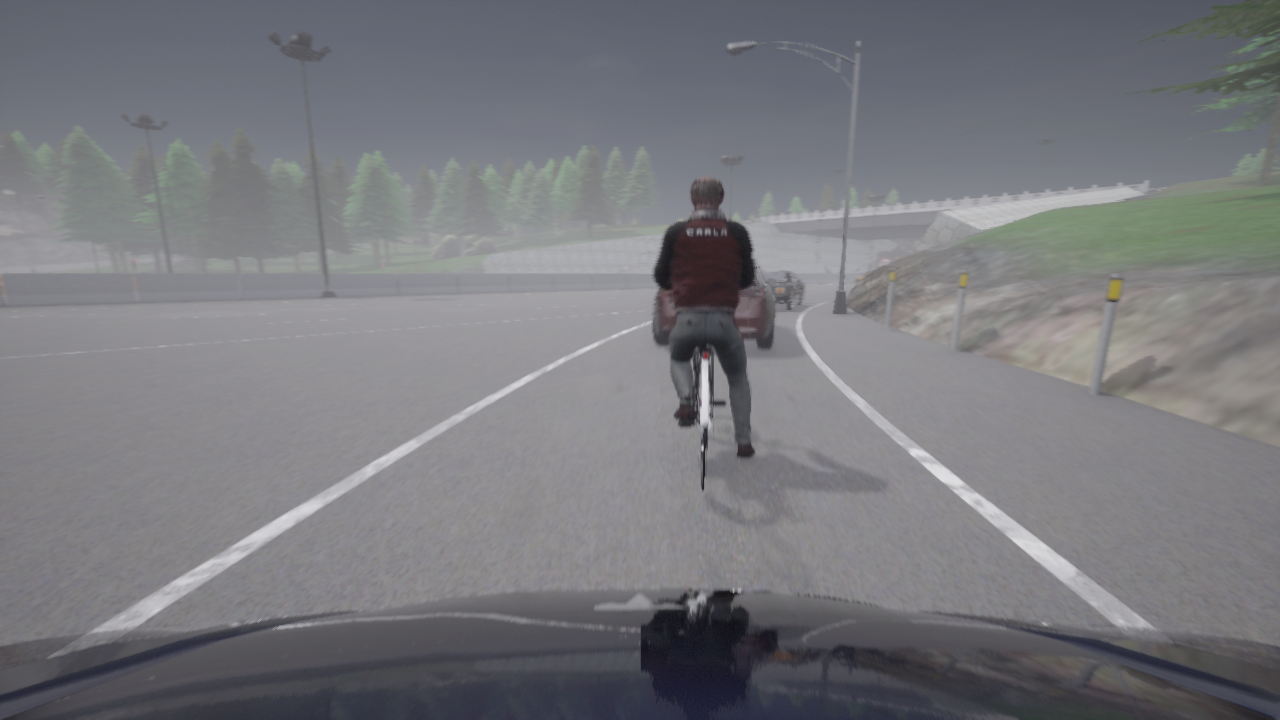cyclist: (0, 588, 1279, 719), (653, 259, 777, 347), (678, 345, 725, 491), (761, 270, 803, 310), (855, 270, 872, 285)
